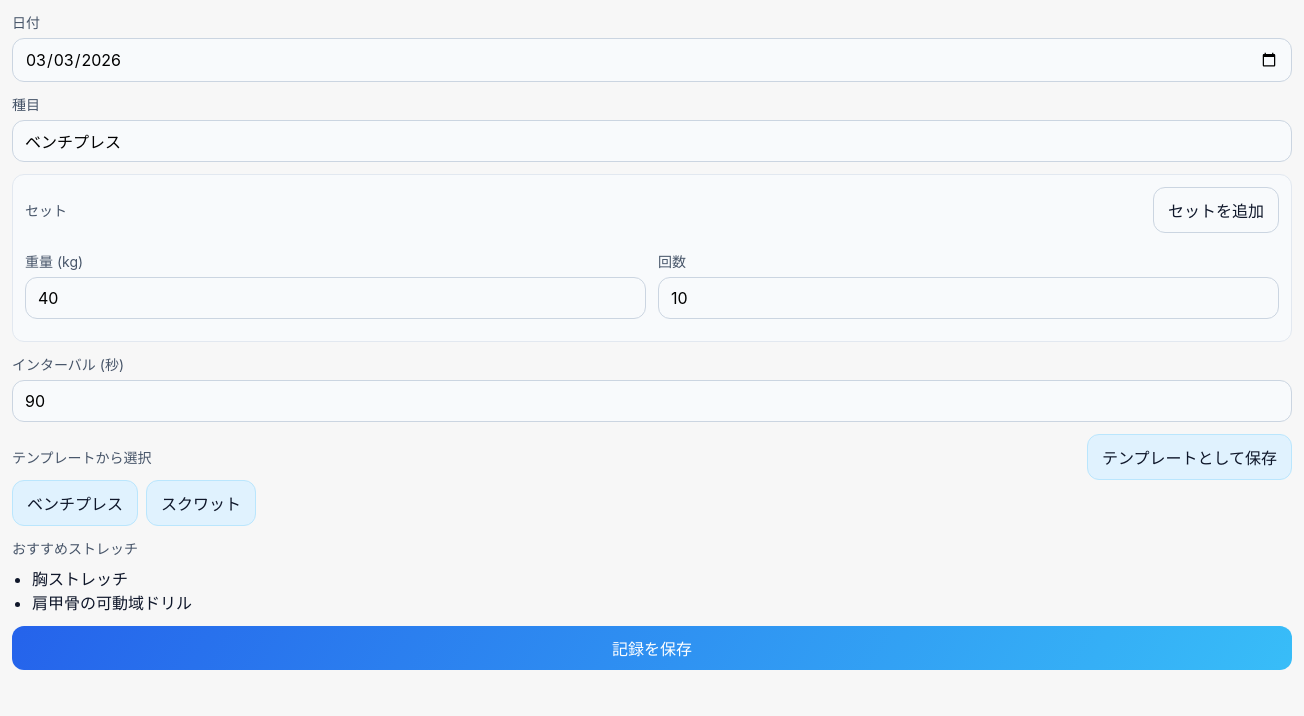
Test: TrainingLogForm Set Deletion › should show delete buttons when there are multiple sets
The image size is (1304, 716).
Note: Add a set
Click the button "セットを追加" at (1216, 210), box [1153, 187, 1279, 233]
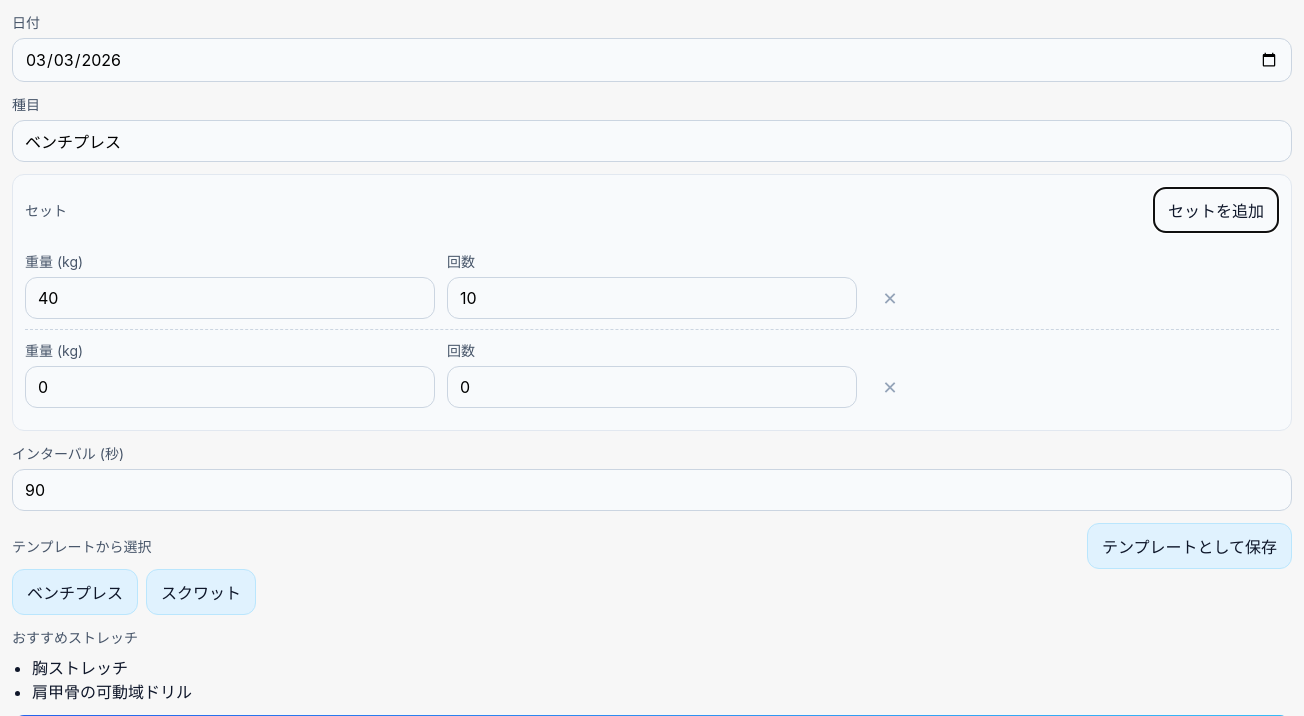
Result: the number of buttons named "セットを削除" is 2 at [869, 277, 911, 319]; [869, 366, 911, 408]
